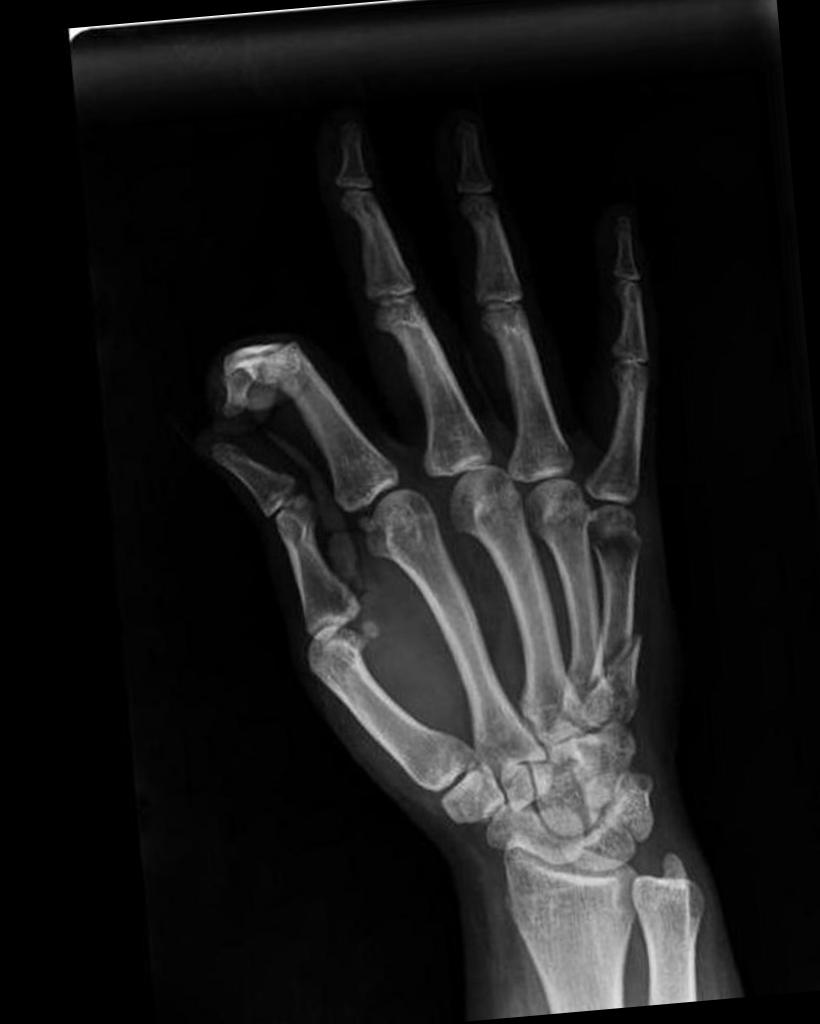fracture: (216, 334, 296, 391), (600, 629, 646, 682), (311, 616, 366, 656), (358, 516, 396, 564), (278, 490, 316, 532)
